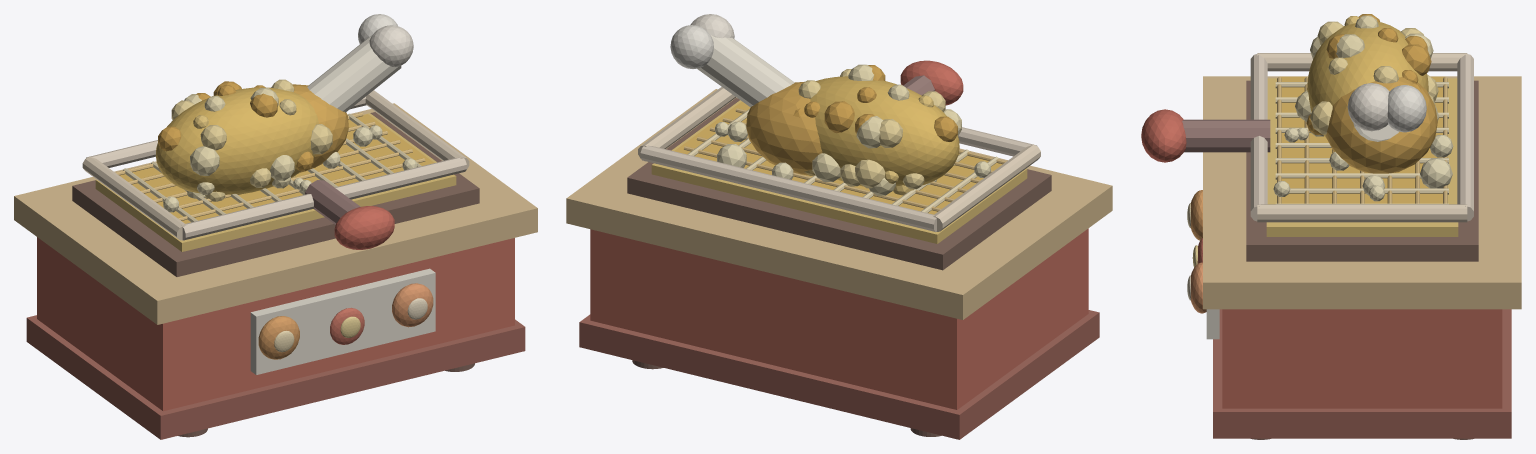
The model's file is fryer_machine.glb.
3 views of the same model, side by side, from view 1: azimuth 30°, elevation 25°; view 2: azimuth 150°, elevation 25°; view 3: azimuth 270°, elevation 25° (orthographic). The views are drawn at different scales.
Parts seen in each view (by area): view 1: part_0, part_2, part_1, part_39, part_3, part_28, part_5, part_24, part_4, part_41, part_27, part_22 (+16 smaller); view 2: part_0, part_2, part_1, part_3, part_39, part_25, part_4, part_40, part_41, part_5, part_22, part_23 (+11 smaller); view 3: part_2, part_0, part_1, part_3, part_4, part_5, part_40, part_39, part_23, part_26, part_25, part_24 (+19 smaller).
Boxes of the visible parts, x1,y1,x2,y2 form: part_0: [37, 237, 514, 411]; part_2: [14, 103, 537, 324]; part_1: [26, 315, 525, 439]; part_39: [155, 87, 318, 194]; part_3: [72, 112, 479, 276]; part_28: [250, 268, 435, 374]; part_5: [119, 114, 434, 223]; part_24: [182, 157, 466, 240]; part_4: [95, 113, 456, 251]; part_41: [307, 35, 401, 112]; part_27: [334, 206, 394, 249]; part_22: [82, 156, 185, 240]; part_0: [590, 228, 1088, 409]; part_2: [566, 89, 1112, 319]; part_1: [579, 310, 1099, 439]; part_3: [627, 98, 1051, 270]; part_39: [810, 76, 959, 186]; part_25: [640, 145, 937, 231]; part_4: [651, 100, 1027, 243]; part_40: [746, 81, 822, 175]; part_41: [697, 35, 794, 107]; part_5: [674, 101, 1002, 214]; part_22: [933, 144, 1040, 231]; part_23: [638, 87, 735, 158]; part_2: [1203, 76, 1521, 309]; part_0: [1222, 309, 1502, 408]; part_1: [1213, 309, 1511, 438]; part_3: [1246, 80, 1478, 261]; part_4: [1266, 78, 1458, 236]; part_5: [1279, 76, 1444, 203]; part_40: [1326, 77, 1437, 173]; part_39: [1307, 21, 1428, 137]; part_23: [1257, 204, 1467, 222]; part_26: [1182, 119, 1270, 152]; part_25: [1457, 53, 1473, 221]; part_24: [1250, 53, 1267, 221].
Bounding box in the file's own units: 2.65 × 2.02 × 2.07.
